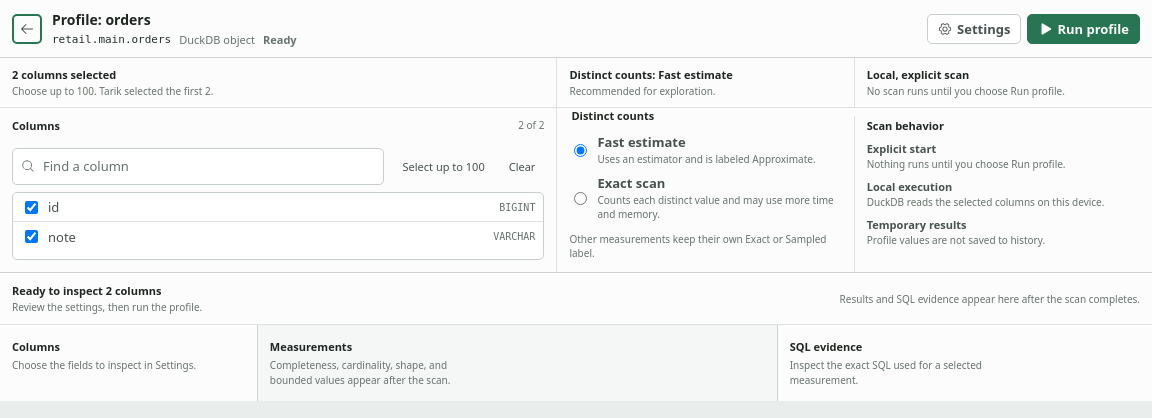
Test: ProfileWorkspace › captures checkbox state before updating the selected columns
Click the checkbox named "noteVARCHAR". click: (32, 237)
box: x1=25 y1=230 x2=38 y2=243
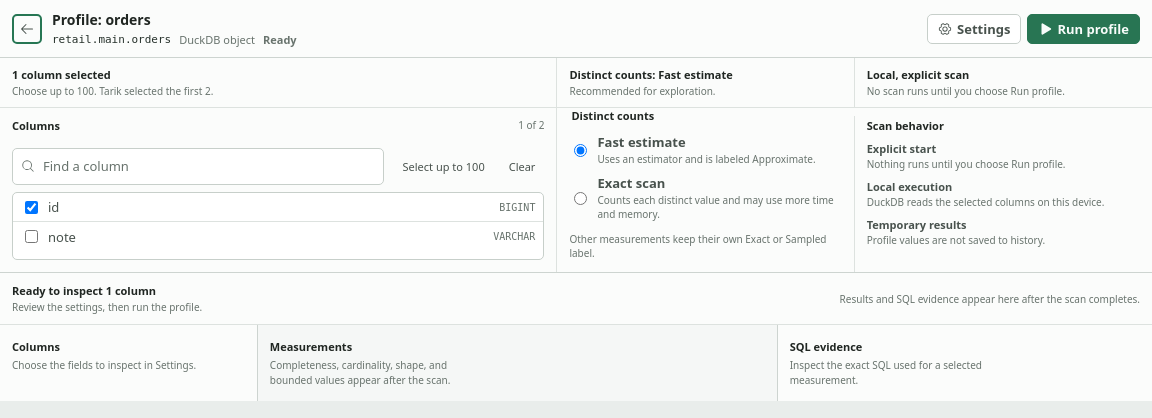
Result: the text "1 column selected" is shown at x1=12 y1=67 x2=111 y2=82
Click the checkbox named "noteVARCHAR". click: (32, 237)
box: x1=25 y1=230 x2=38 y2=243
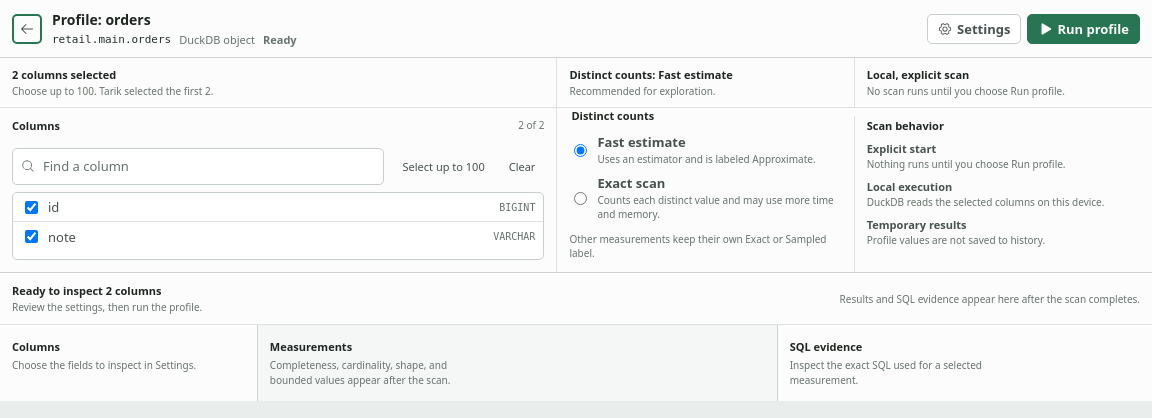
Result: the text "2 columns selected" is shown at x1=12 y1=67 x2=116 y2=82
